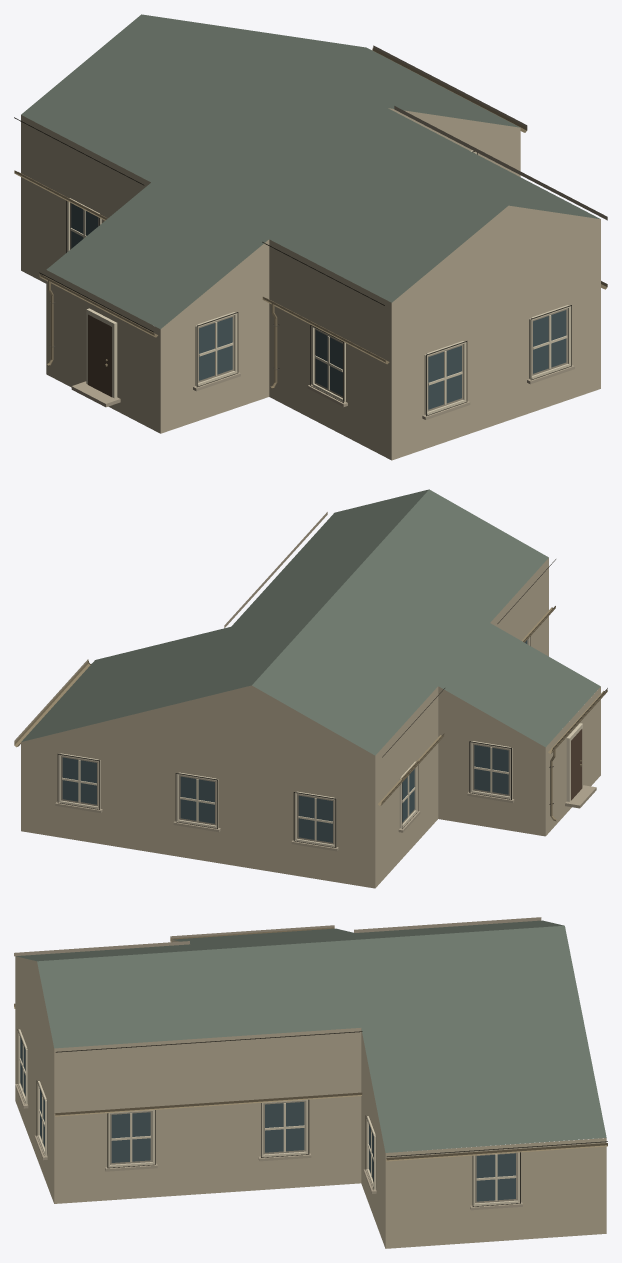
3 renders of one model, top to bottom at view 1: azimuth 30°, elevation 25°; view 2: azimuth 150°, elevation 25°; view 3: azimuth 270°, elevation 25°, orthographic. The views are drawn at different scales.
Visible parts, largest first — view 1: 0_12_608383941_0; view 2: 0_12_608383941_0; view 3: 0_12_608383941_0.
Boxes of the visible parts, left/top/right/bottom form: 0_12_608383941_0: left=14, top=14, right=607, bottom=460; 0_12_608383941_0: left=14, top=489, right=607, bottom=888; 0_12_608383941_0: left=14, top=917, right=607, bottom=1248.
Bounding box in the file's own units: 16.46 × 6.54 × 17.86.
